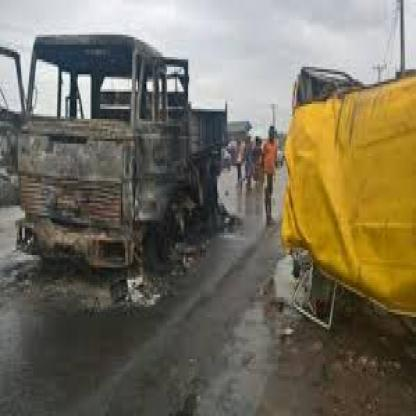accident: (1, 32, 231, 281)
